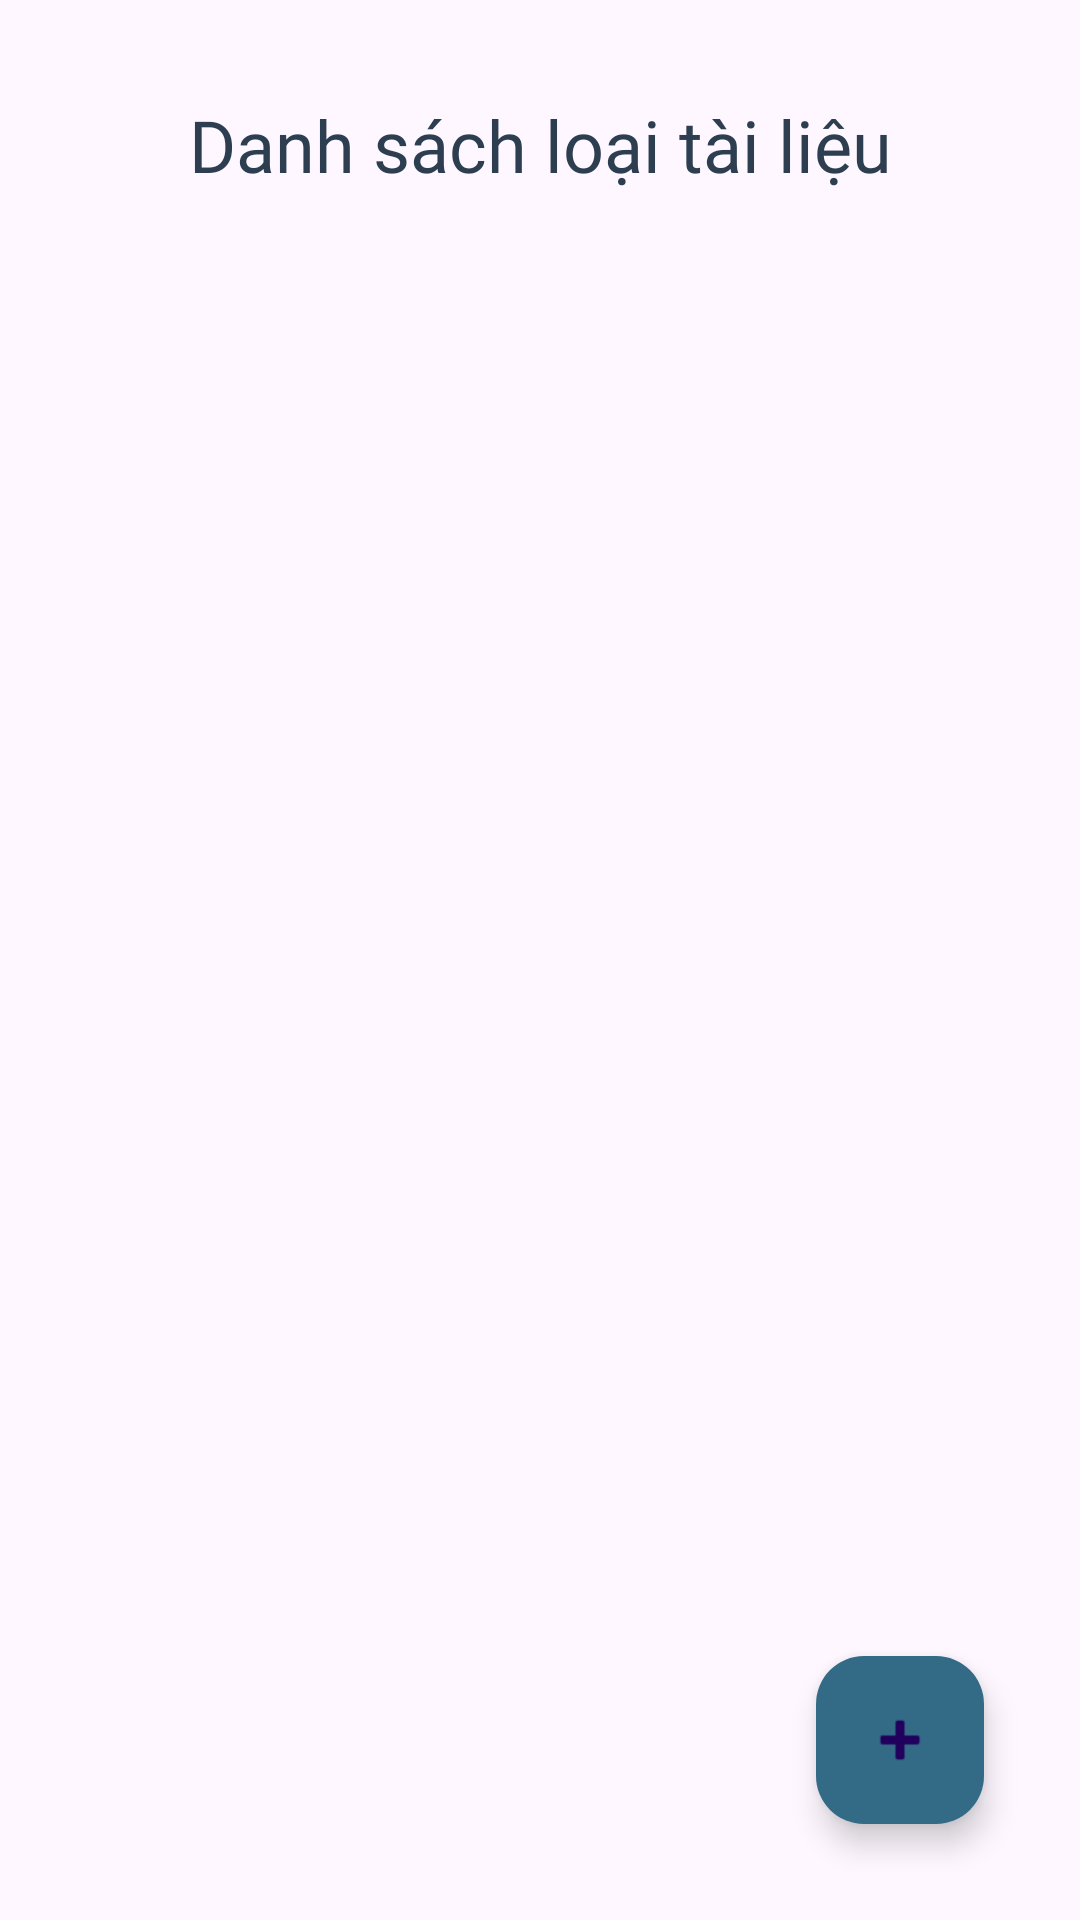

Icon bounding boxes for this 1080*1920 phone screenshot, format {"x1": x1, "y1": y1, "x2": x2, "y2": y2}:
Thêm loại tài liệu: {"x1": 816, "y1": 1656, "x2": 984, "y2": 1824}
